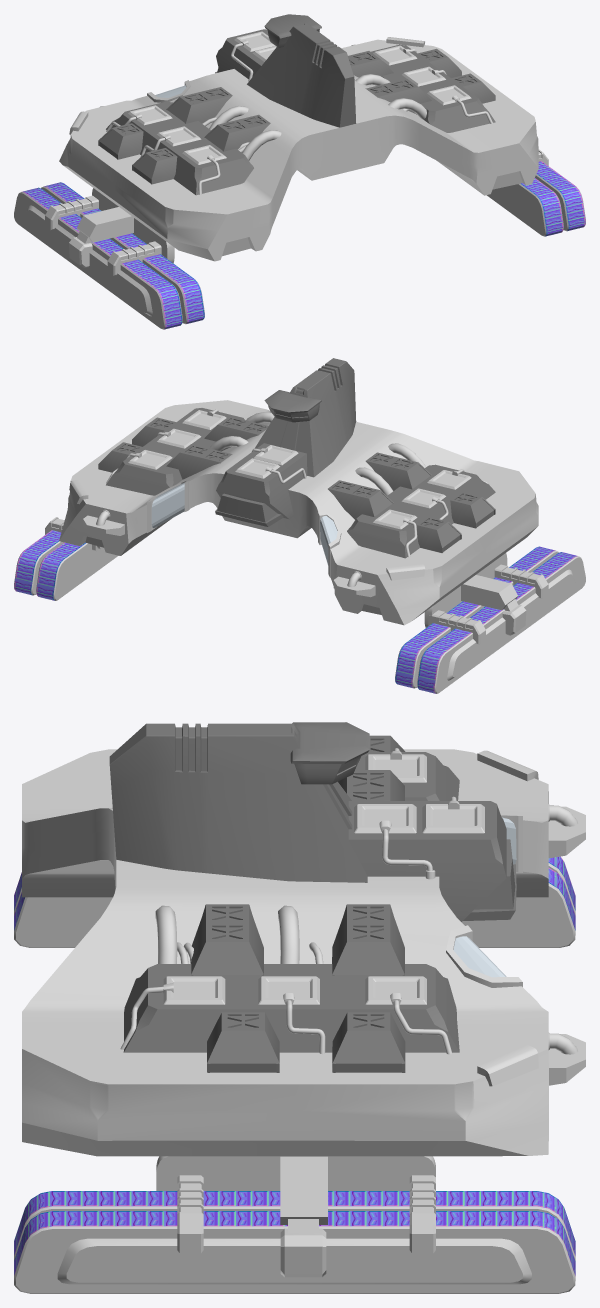
Rendered from UNIT_BASE_Fortnite.fbx.
3 renders of one model, top to bottom at view 1: azimuth 30°, elevation 25°; view 2: azimuth 150°, elevation 25°; view 3: azimuth 270°, elevation 25°, orthographic. The views are drawn at different scales.
Parts seen in each view (by area): view 1: Structure_Fort_Body_low, Structure_Fort_Entrance_low, Structure_Fort_Fin_low, Structure_Fort_SideB_low, Treads_Texture, Treads_Side_low, Structure_BuildingSlot_low.003, Treads_Side_Piece_low, Clamp_low, Clamp_Big_1_low, Structure_Fort_Front_low, Structure_Fort_FinCommand_low (+7 smaller); view 2: Structure_Fort_Body_low, Structure_Fort_Entrance_low, Structure_Fort_SideB_low, Treads_Texture, Structure_Fort_Fin_low, Treads_Side_low, Structure_Fort_Front_low, Structure_BuildingSlot_low.003, Treads_Side_Piece_low, Clamp_low, Cube.030, Clamp_Big_1_low (+10 smaller); view 3: Structure_Fort_Body_low, Structure_Fort_Fin_low, Treads_Side_low, Structure_Fort_Entrance_low, Treads_Side_Piece_low, Structure_Fort_SideB_low, Treads_Texture, Structure_Fort_Front_low, Structure_Fort_Body_THING_low, Structure_BuildingSlot_low.003, Clamp_low, Structure_Fort_FinCommand_low (+12 smaller).
Part boxes in pixels (x1=…): Structure_Fort_Body_low: x1=59, y1=39, x2=538, y2=261; Structure_Fort_Entrance_low: x1=98, y1=48, x2=495, y2=184; Structure_Fort_Fin_low: x1=247, y1=23, x2=356, y2=127; Structure_Fort_SideB_low: x1=106, y1=44, x2=495, y2=195; Treads_Texture: x1=22, y1=161, x2=585, y2=329; Treads_Side_low: x1=14, y1=174, x2=585, y2=329; Structure_BuildingSlot_low.003: x1=128, y1=45, x2=471, y2=164; Treads_Side_Piece_low: x1=24, y1=205, x2=152, y2=316; Clamp_low: x1=45, y1=149, x2=548, y2=275; Clamp_Big_1_low: x1=77, y1=207, x2=133, y2=242; Structure_Fort_Front_low: x1=215, y1=29, x2=273, y2=78; Structure_Fort_FinCommand_low: x1=264, y1=14, x2=321, y2=47; Structure_Fort_Body_low: x1=59, y1=400, x2=538, y2=625; Structure_Fort_Entrance_low: x1=98, y1=416, x2=495, y2=552; Structure_Fort_SideB_low: x1=106, y1=408, x2=495, y2=558; Treads_Texture: x1=14, y1=530, x2=577, y2=693; Structure_Fort_Fin_low: x1=254, y1=358, x2=356, y2=477; Treads_Side_low: x1=14, y1=541, x2=585, y2=693; Structure_Fort_Front_low: x1=215, y1=443, x2=307, y2=526; Structure_BuildingSlot_low.003: x1=128, y1=410, x2=471, y2=529; Treads_Side_Piece_low: x1=447, y1=569, x2=575, y2=680; Clamp_low: x1=45, y1=517, x2=548, y2=644; Cube.030: x1=151, y1=482, x2=337, y2=565; Clamp_Big_1_low: x1=461, y1=575, x2=517, y2=610; Structure_Fort_Body_low: x1=22, y1=749, x2=548, y2=1156; Structure_Fort_Fin_low: x1=109, y1=723, x2=367, y2=882; Treads_Side_low: x1=14, y1=863, x2=575, y2=1293; Structure_Fort_Entrance_low: x1=191, y1=735, x2=405, y2=1072; Treads_Side_Piece_low: x1=57, y1=1238, x2=531, y2=1284; Structure_Fort_SideB_low: x1=123, y1=752, x2=459, y2=1052; Treads_Texture: x1=14, y1=856, x2=575, y2=1276; Structure_Fort_Front_low: x1=348, y1=801, x2=516, y2=921; Structure_Fort_Body_THING_low: x1=156, y1=1156, x2=435, y2=1190; Structure_BuildingSlot_low.003: x1=163, y1=751, x2=426, y2=1004; Clamp_low: x1=177, y1=1175, x2=435, y2=1253; Structure_Fort_FinCommand_low: x1=290, y1=722, x2=369, y2=784.
Bounding box in the file's own units: 4955 × 2127 × 2951.
